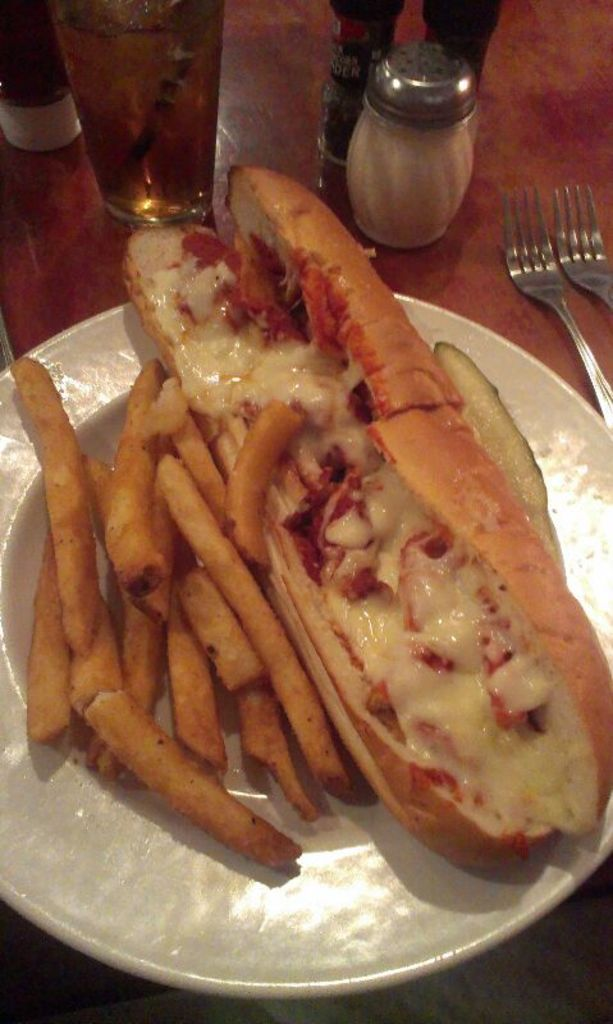French fries: (5, 349, 360, 875)
